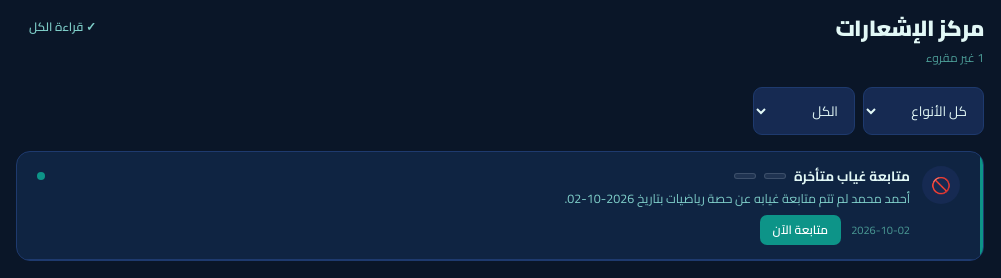
NotificationsPage — absence follow-up notifications (attendance + absenceFollowup) › reading the notification marks it read but never creates/modifies an absenceFollowup record (read != completed)
Click the text "متابعة غياب متأخرة" at (852, 176), box [794,166,910,186]
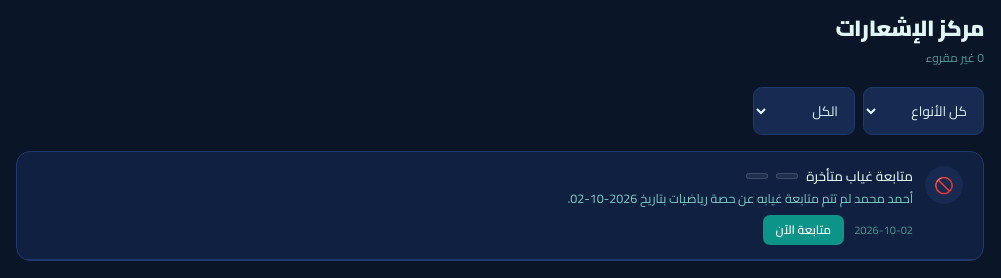
Expected: the text "0 غير مقروء" is shown, [926,46,984,69]
